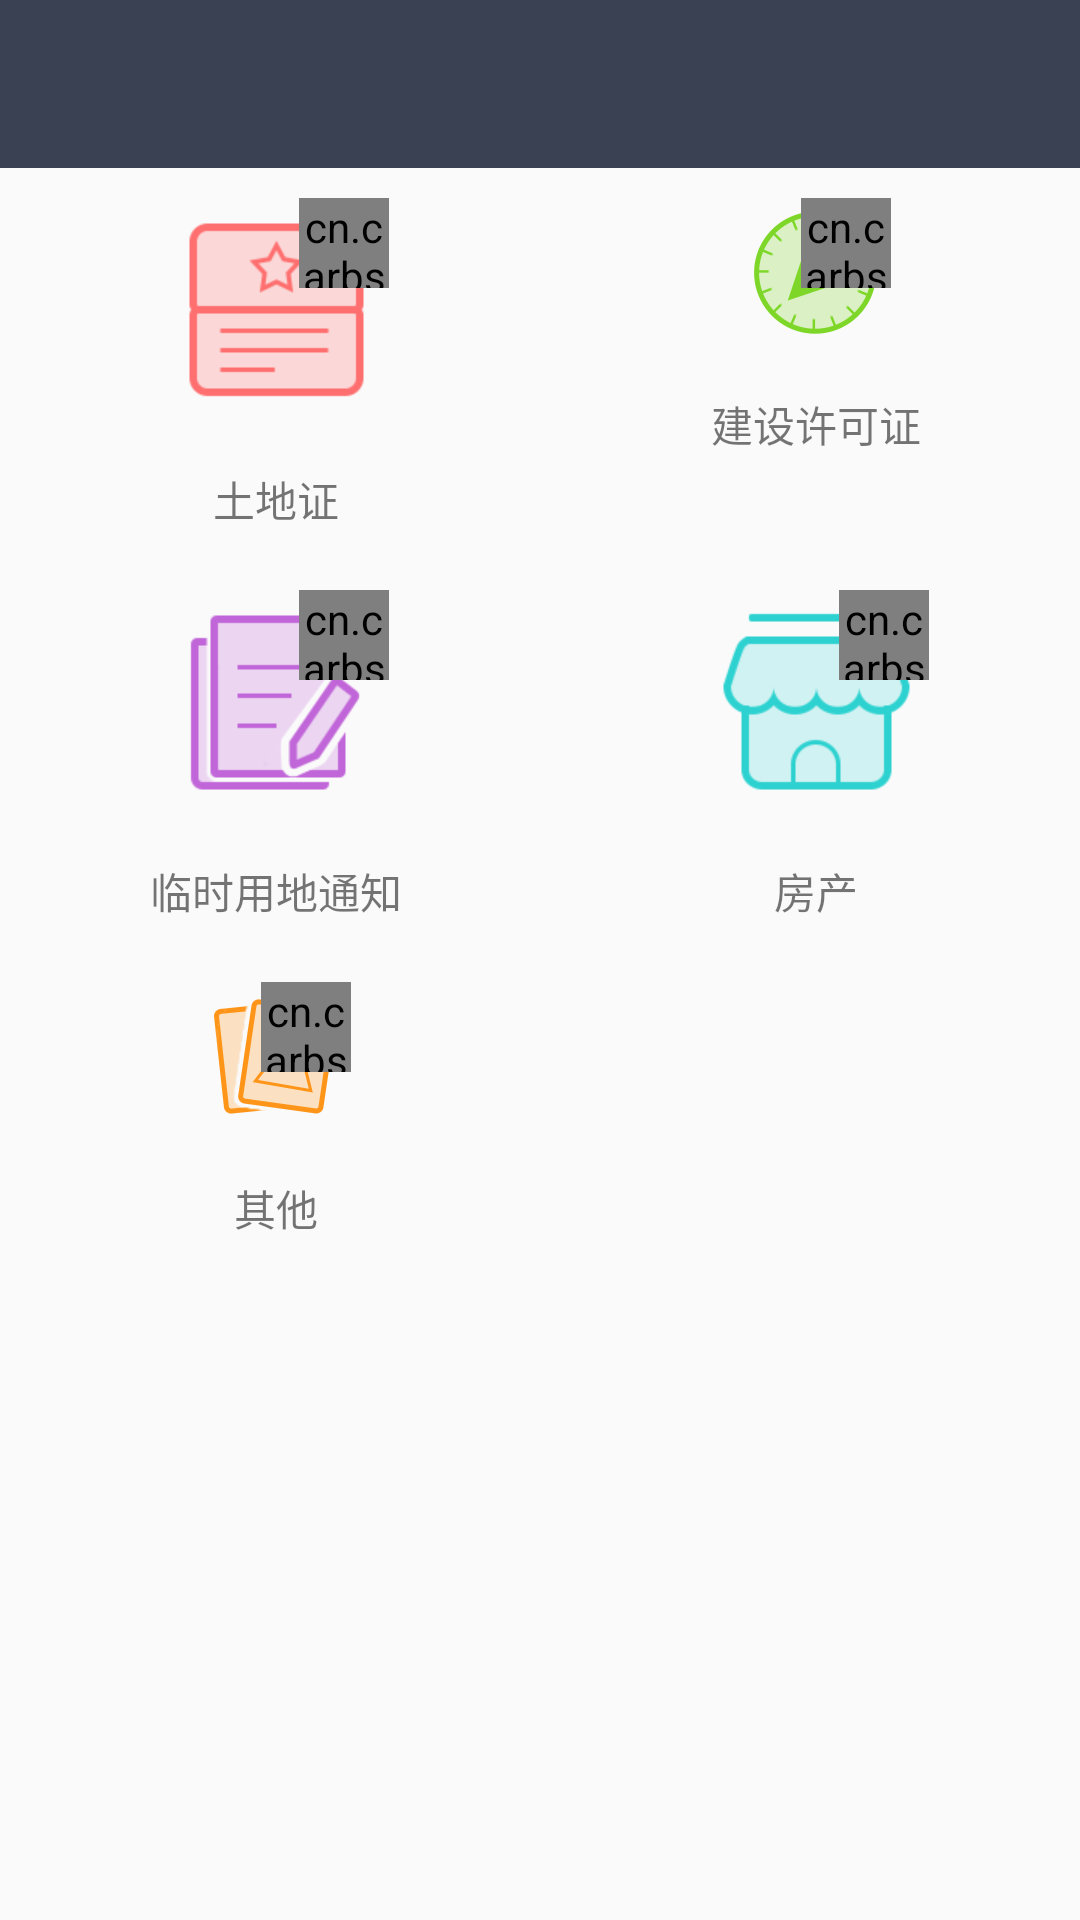

Named icons in this screenshot (1080 x 1920) and their centers, (x,y):
item house: (826,690)
item lang cer: (289,297)
